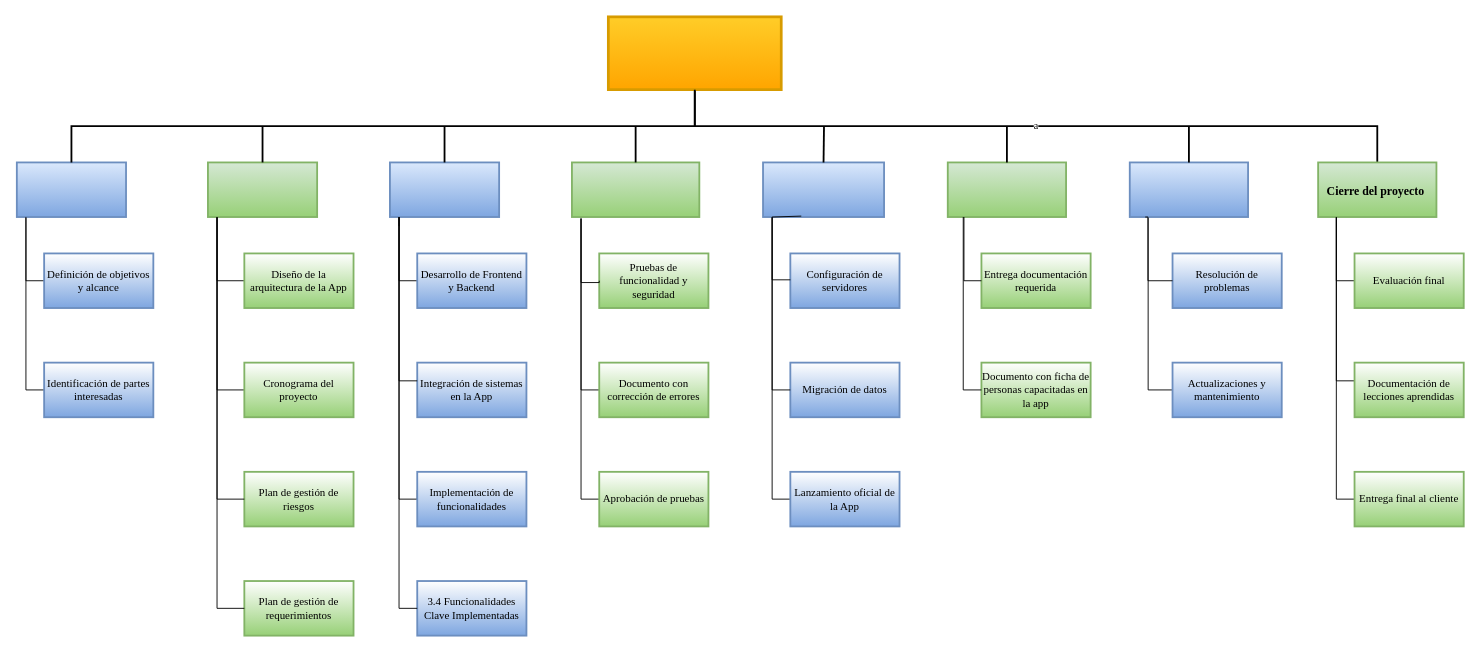
Some shapes in this 1480 by 652 pixel diagram are drawn without their labels. Each missing label, with the box of its shape:
Desarrollo de Aplicación Móvil: (389, 161, 500, 217)
Documentación: (946, 161, 1067, 217)
FixYa: (607, 15, 782, 91)
Implementación y Despliegue: (762, 161, 885, 217)
Inicio de proyecto: (15, 161, 126, 217)
Planificación: (207, 161, 318, 217)
Pruebas y Control de Calidad: (571, 161, 700, 217)
Soporte Pos-Lanzamiento: (1128, 161, 1249, 217)
